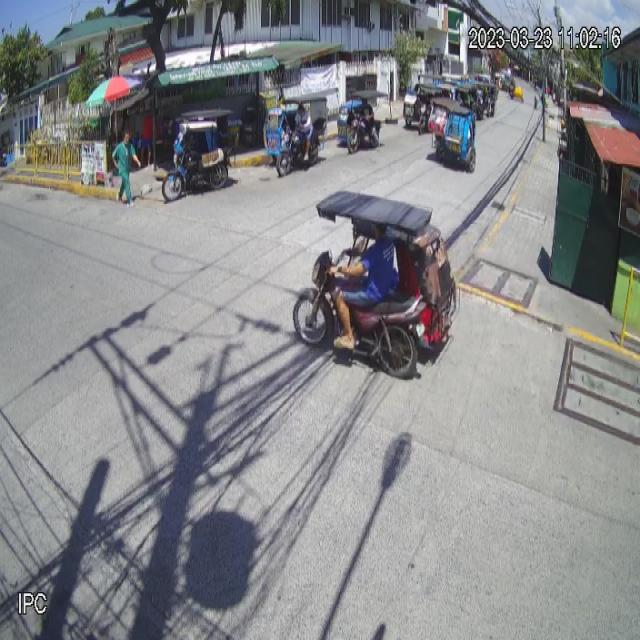Tricycle: (292, 189, 461, 379), (161, 108, 236, 205), (262, 92, 328, 178), (428, 96, 477, 175)
